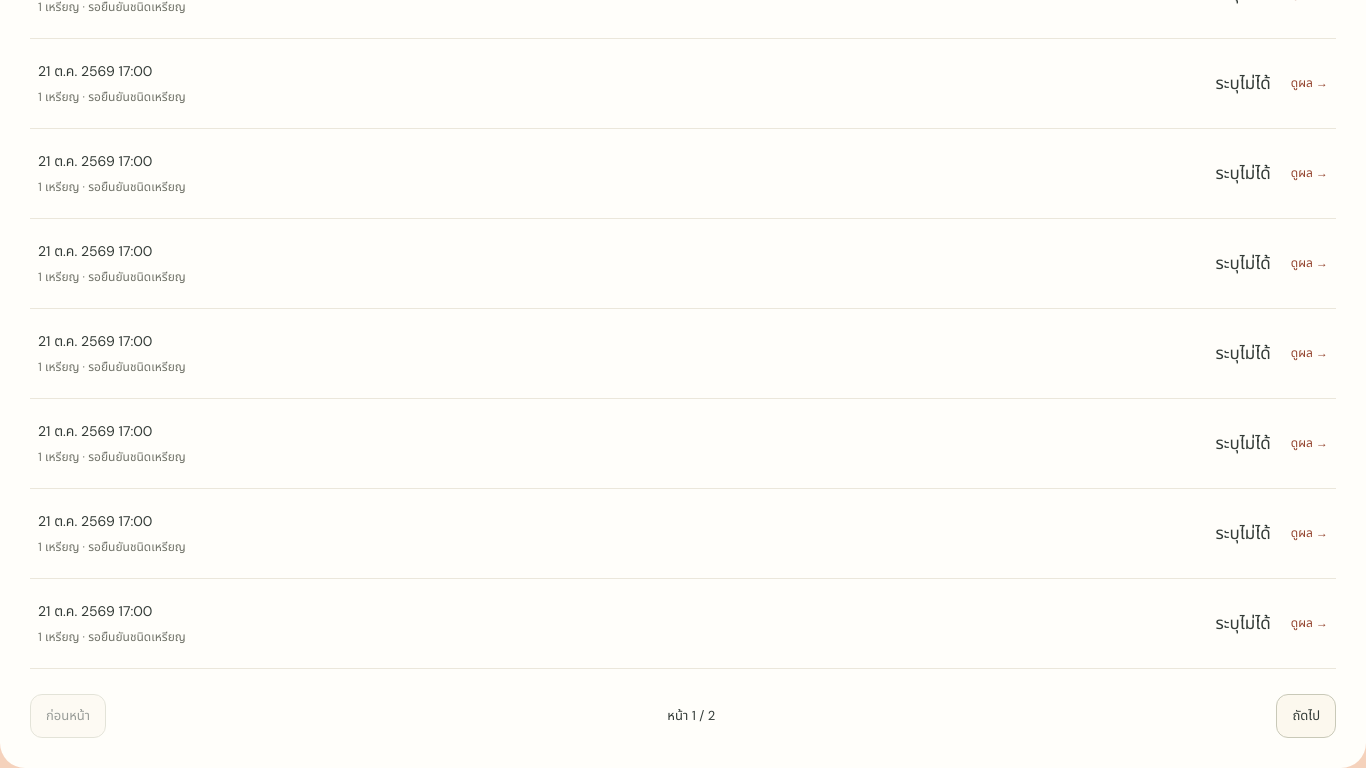
Test case: เปลี่ยนหน้าประวัติและคงยอด null เป็นระบุไม่ได้
The image size is (1366, 768).
(page scrolled)
Click the button "ถัดไป".
click(1306, 716)  # box [1276,694,1336,738]
(page scrolled)
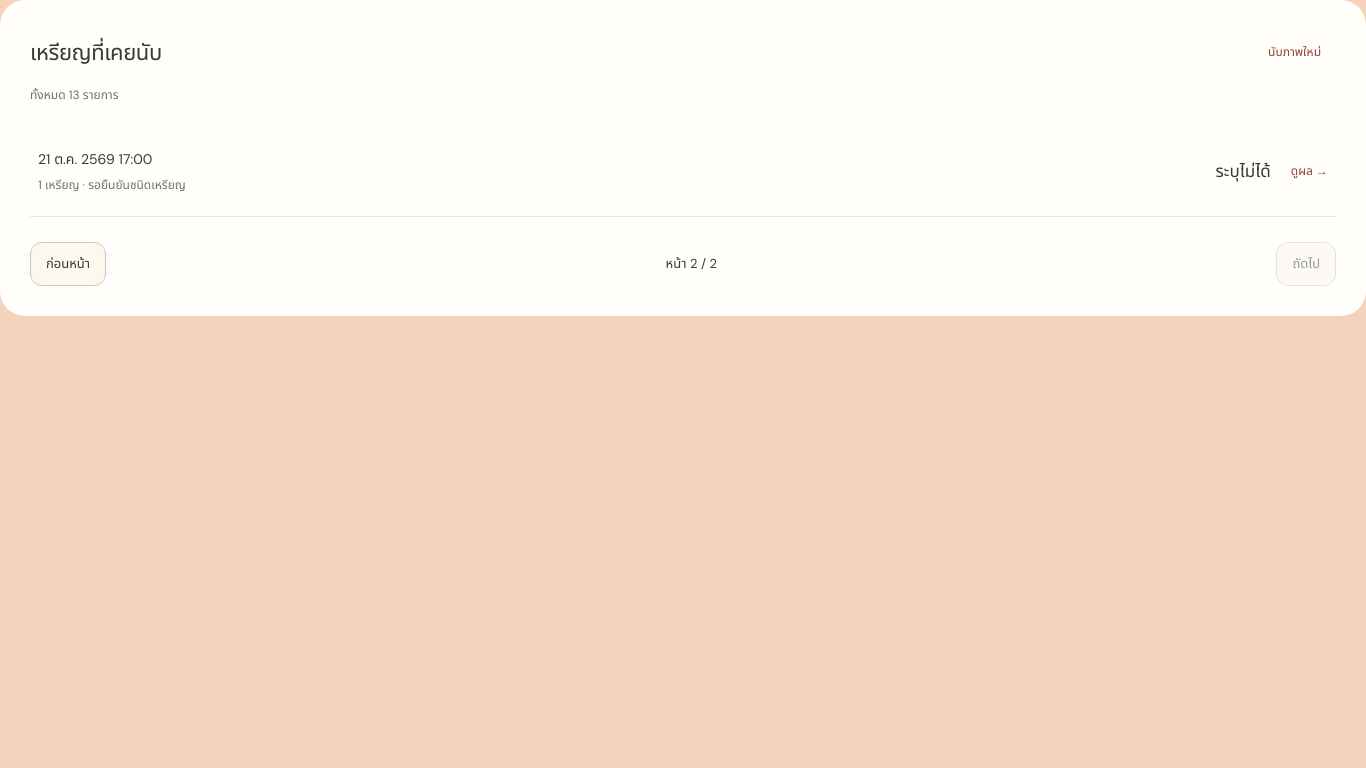
expect the text "หน้า 2 / 2" is shown: met, box [666,254,717,274]
expect the button "ถัดไป" is disabled: met, box [1276,242,1336,286]
